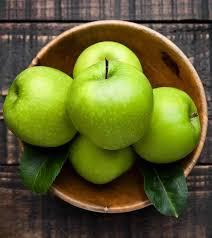non-mango: (2, 65, 76, 147)
